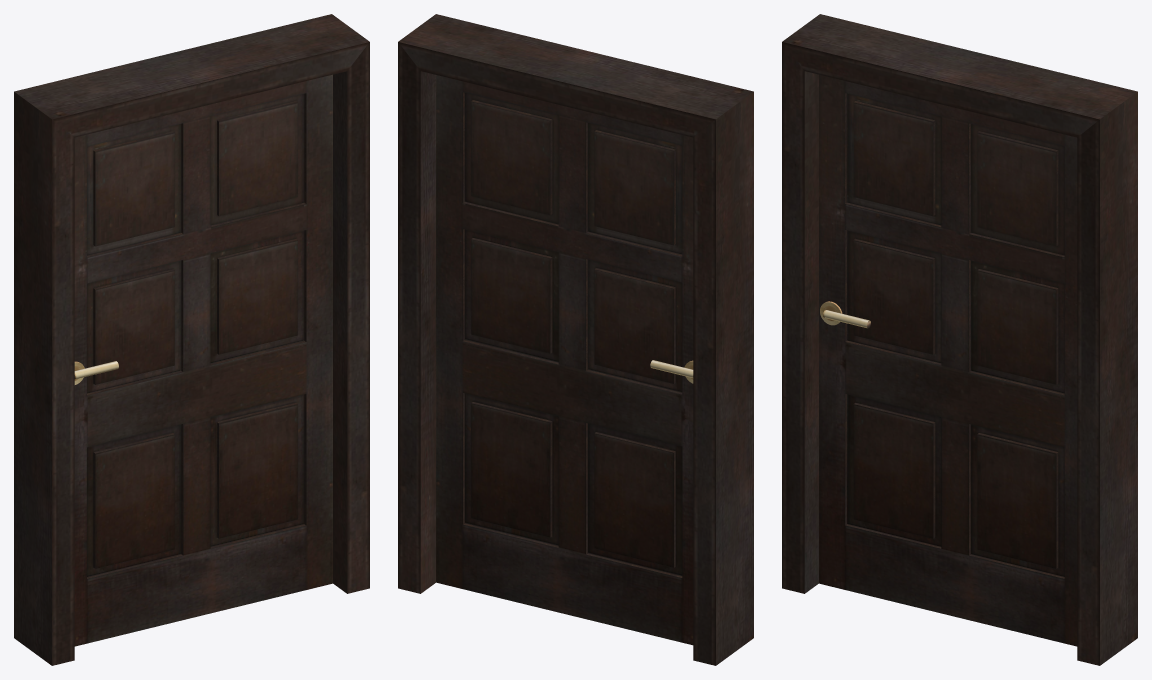
The model's file is ExportLibraryDoor_01.FBX.
3 views of the same model, side by side, from view 1: azimuth 30°, elevation 25°; view 2: azimuth 150°, elevation 25°; view 3: azimuth 330°, elevation 25° (orthographic).
Parts seen in each view (by area): view 1: Door, DoorPost; view 2: Door, DoorPost; view 3: Door, DoorPost.
Part boxes in pixels (x1,y1,x2,y2): Door: [74, 74, 332, 646]; DoorPost: [14, 14, 369, 665]; Door: [436, 75, 693, 645]; DoorPost: [398, 14, 753, 665]; Door: [819, 74, 1077, 646]; DoorPost: [782, 14, 1137, 665].
Size of the model in its own units: 70 by 14.52 by 115.
